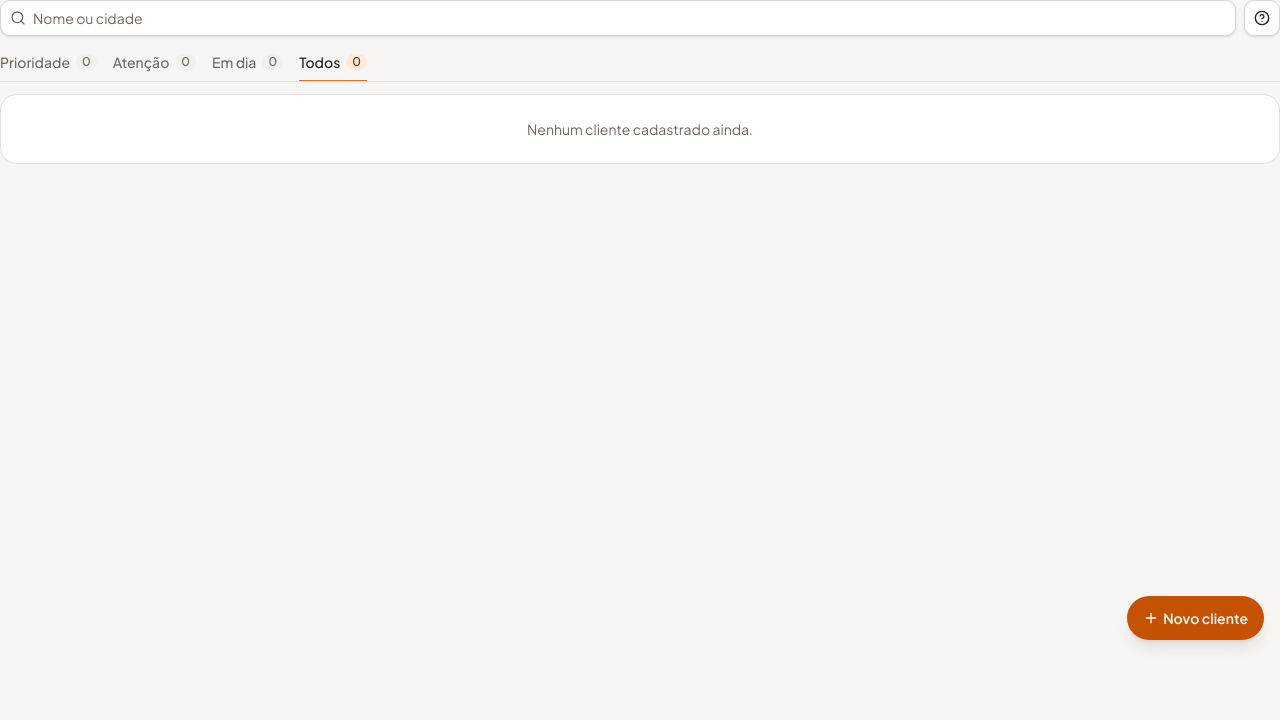
it: ClientesPage › a legenda (?) abre com as frases do app sobre as situações
Click the button named "Legenda das situações".
click(1262, 18)  # box [1244, 0, 1279, 36]
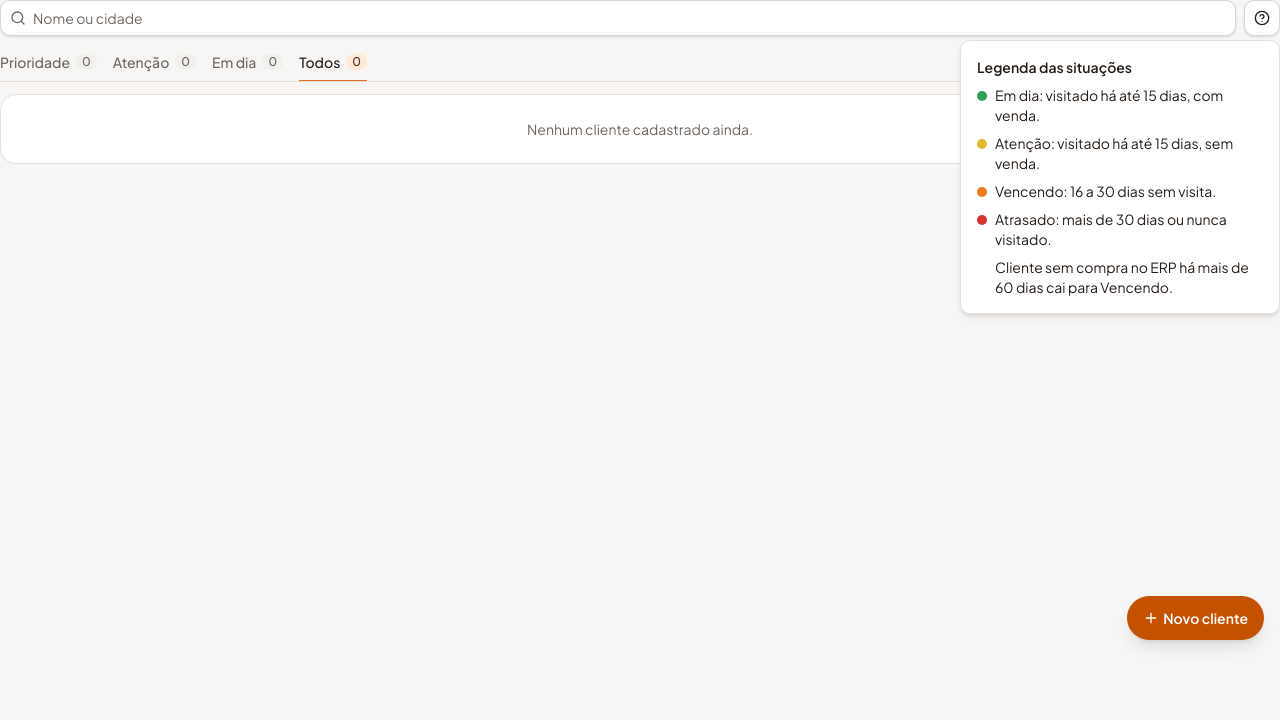
Expected: the list item "Em dia: visitado há até 15 dias, com venda." is shown, [977, 85, 1263, 125]
Expected: the list item "Atenção: visitado há até 15 dias, sem venda." is shown, [977, 133, 1263, 173]
Expected: the list item "Vencendo: 16 a 30 dias sem visita." is shown, [977, 182, 1216, 200]
